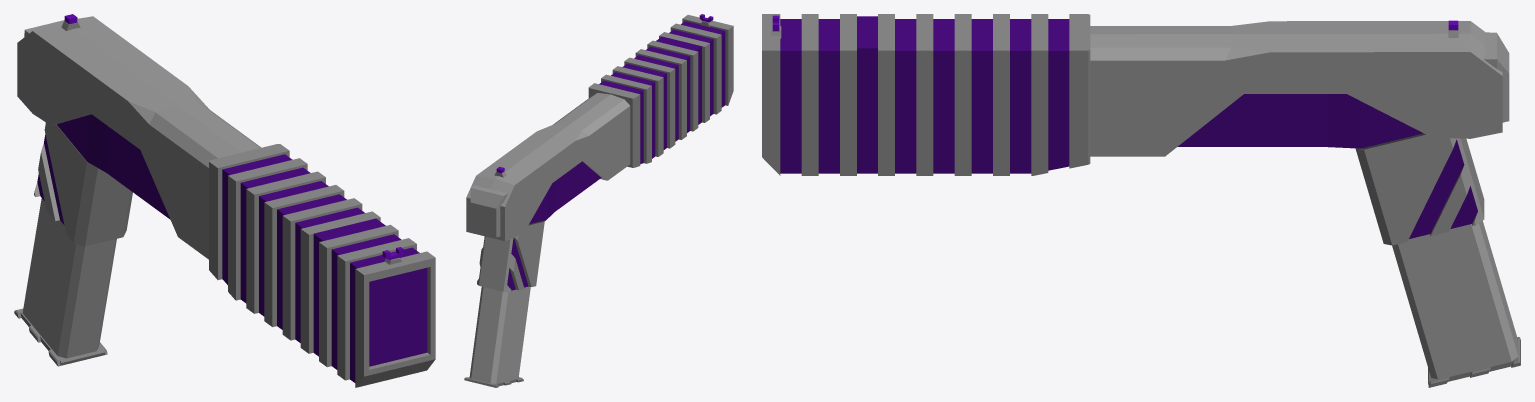
File: Pippy.fbx
3 views of the same model, side by side, from view 1: azimuth 30°, elevation 25°; view 2: azimuth 150°, elevation 25°; view 3: azimuth 270°, elevation 25° (orthographic). The views are drawn at different scales.
Visible parts, largest first — view 1: Pippy; view 2: Pippy; view 3: Pippy.
Boxes of the visible parts, bbox=[...] form: Pippy: bbox=[14, 14, 435, 387]; Pippy: bbox=[464, 14, 733, 387]; Pippy: bbox=[762, 14, 1520, 387].
Bounding box in the file's own units: 4.9 × 22.06 × 42.75.
